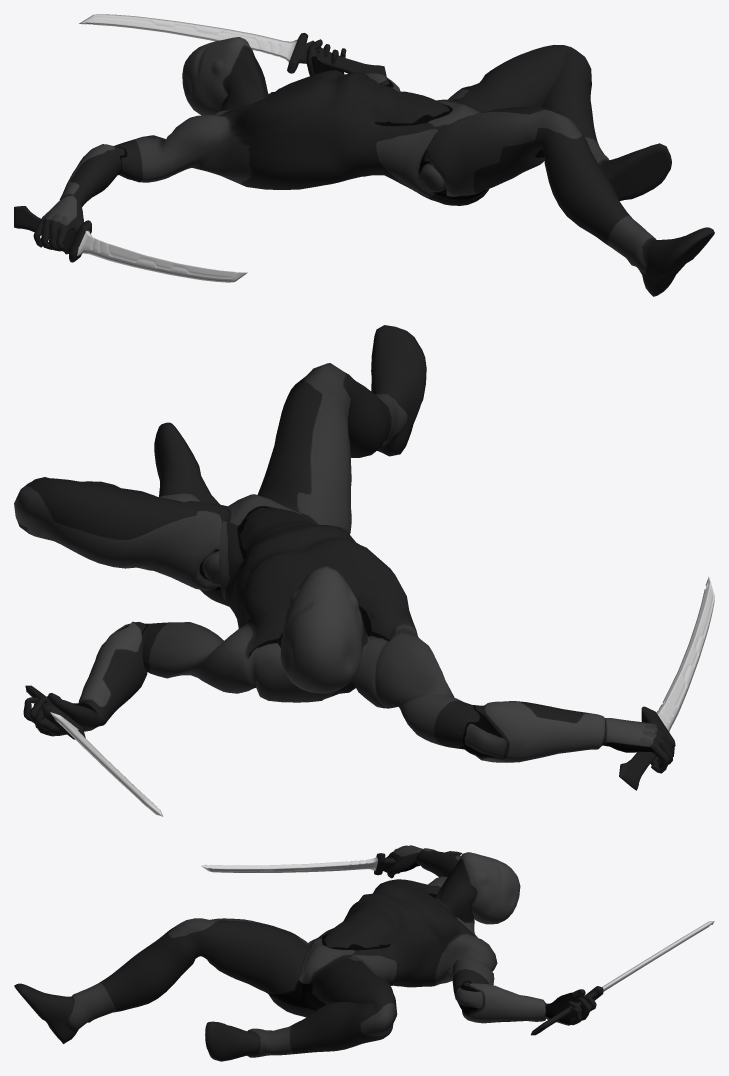
3 renders of one model, top to bottom at view 1: azimuth 30°, elevation 25°; view 2: azimuth 150°, elevation 25°; view 3: azimuth 270°, elevation 25°, orthographic. The views are drawn at different scales.
Visible parts, largest first — view 1: Cyborg_Ninja_Killer, Sword_l, Sword_l001; view 2: Cyborg_Ninja_Killer, Sword_l001, Sword_l; view 3: Cyborg_Ninja_Killer, Sword_l001, Sword_l.
Boxes of the visible parts, left/top/right/bottom form: Cyborg_Ninja_Killer: left=33, top=37, right=714, bottom=296; Sword_l: left=79, top=14, right=386, bottom=76; Sword_l001: left=14, top=206, right=247, bottom=282; Cyborg_Ninja_Killer: left=14, top=325, right=675, bottom=773; Sword_l001: left=619, top=576, right=714, bottom=790; Sword_l: left=25, top=685, right=163, bottom=816; Cyborg_Ninja_Killer: left=14, top=845, right=596, bottom=1061; Sword_l001: left=201, top=851, right=462, bottom=875; Sword_l: left=531, top=921, right=714, bottom=1035.
Size of the model in its own units: 172 by 41.27 by 227.
2 materials, 2 textured.
